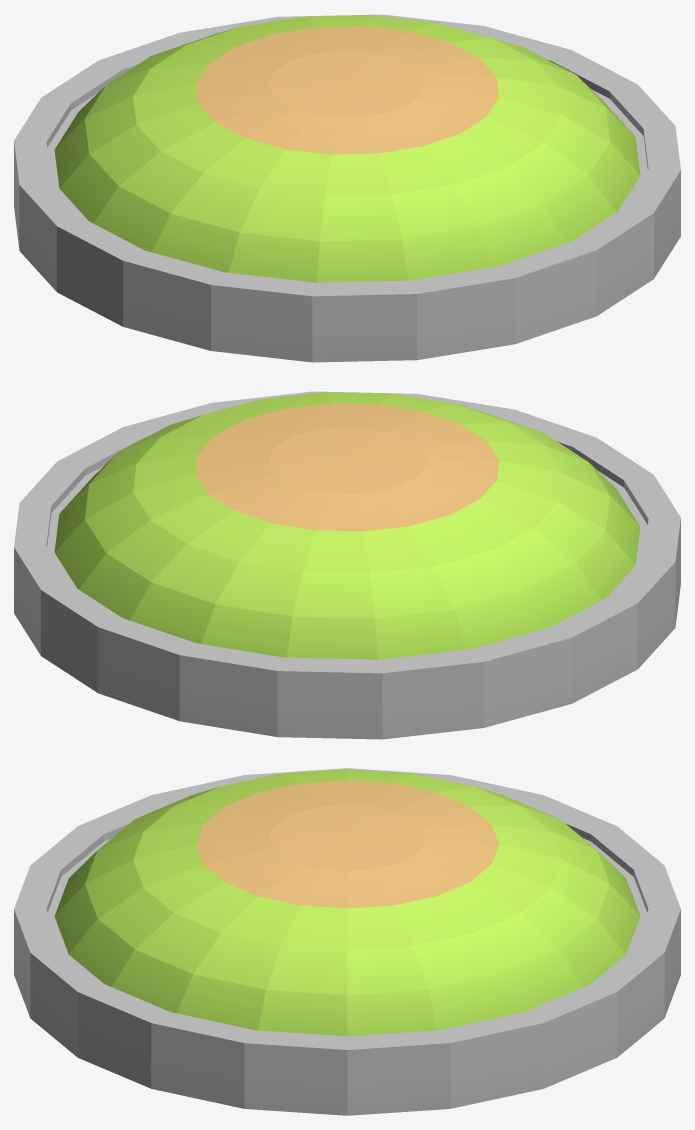
Rendered from Rock_Golden_Base.fbx.
The picture shows the model from 3 angles, top to bottom: view 1: azimuth 30°, elevation 25°; view 2: azimuth 150°, elevation 25°; view 3: azimuth 270°, elevation 25°; orthographic projection.
Visible parts, largest first — view 1: Sphere.005; view 2: Sphere.005; view 3: Sphere.005.
Part boxes in pixels (<box>): Sphere.005: <box>14,14,680,362</box>; Sphere.005: <box>14,391,680,739</box>; Sphere.005: <box>14,768,680,1115</box>.
Size of the model in its own units: 450 by 103 by 450.
